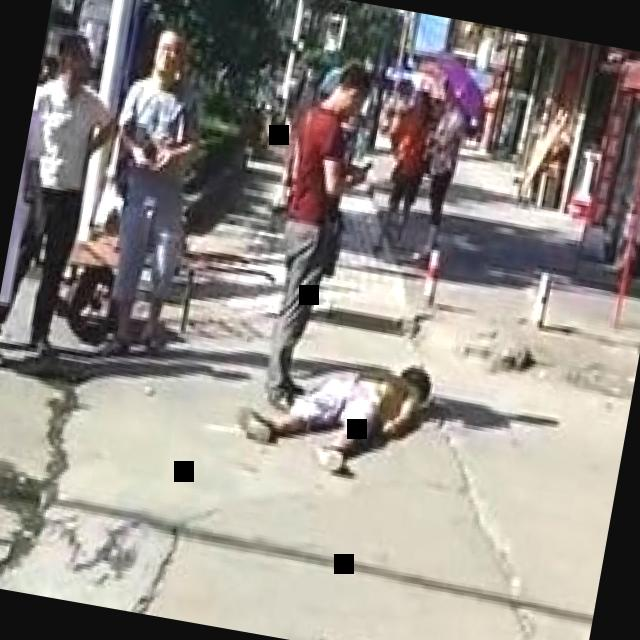Fall-Detected: (226, 317, 448, 488)
